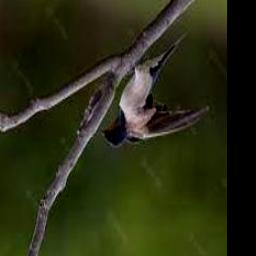Swallow: (100, 34, 209, 149)
